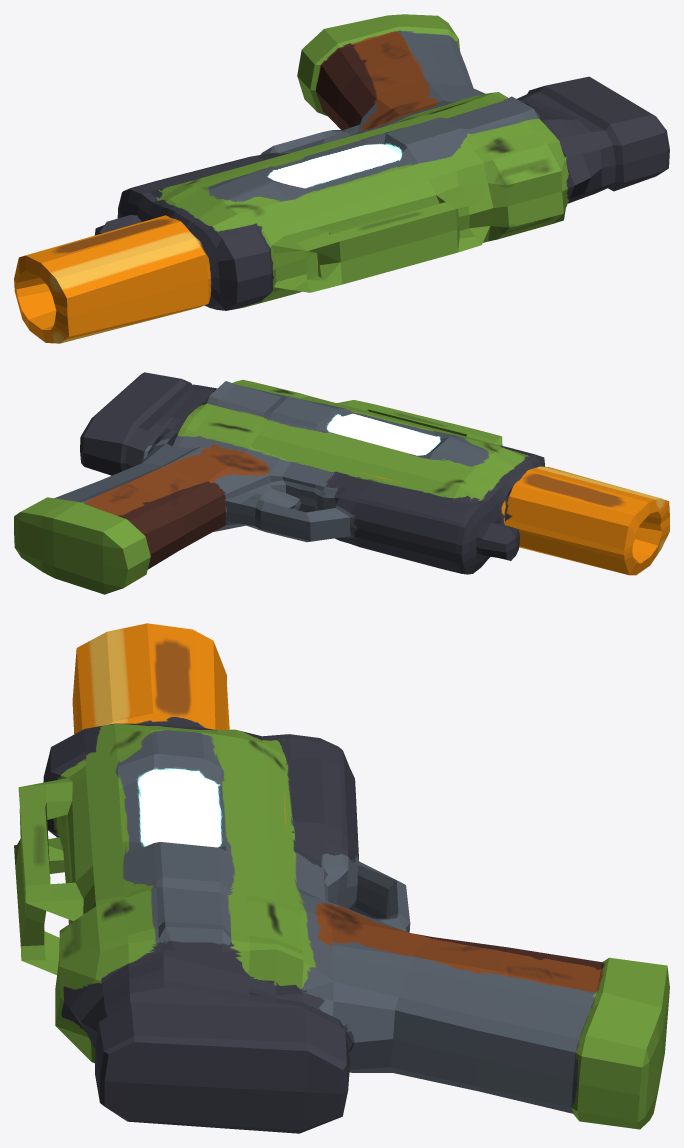
File: Pistol_Mesh.fbx
3 renders of one model, top to bottom at view 1: azimuth 30°, elevation 25°; view 2: azimuth 150°, elevation 25°; view 3: azimuth 270°, elevation 25°, orthographic. The views are drawn at different scales.
Visible parts, largest first — view 1: Pistol>Low; view 2: Pistol>Low; view 3: Pistol>Low.
Part boxes in pixels (<box>): Pistol>Low: <box>14,14,669,343</box>; Pistol>Low: <box>14,372,669,594</box>; Pistol>Low: <box>14,623,669,1133</box>.
Bounding box in the file's own units: 29.03 × 5.44 × 18.95.
